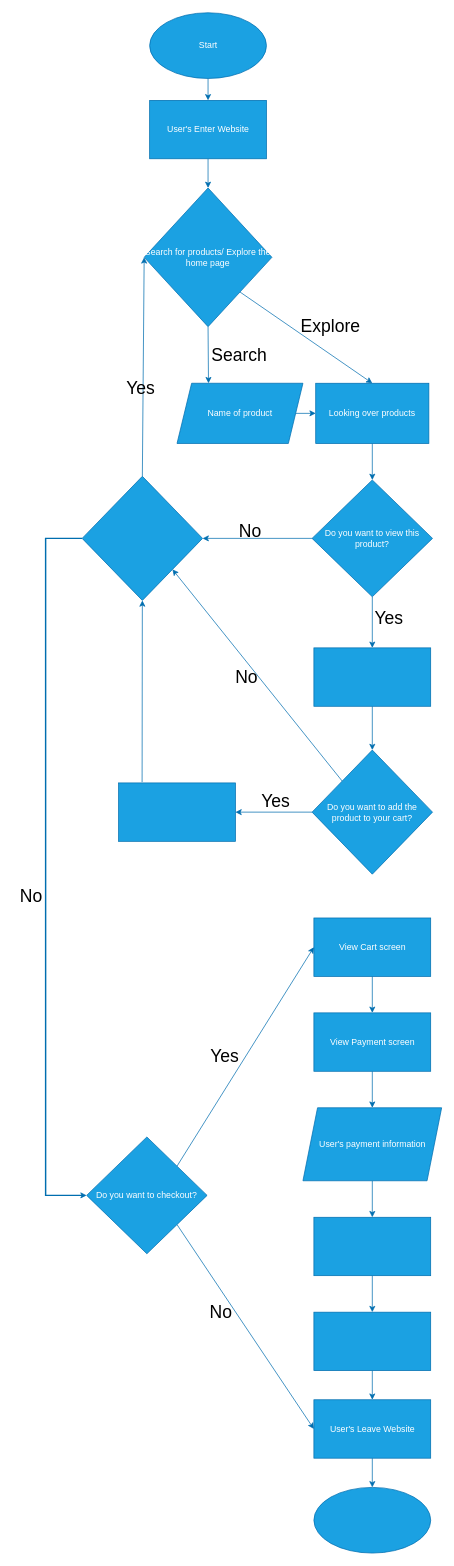
This 454x1566 diagram has some shape labels left out. The shapes that lost their labels are listed below. From the top down, each one's box as (x1, y1, x2, y2) in pixels, then its label:
(81, 476, 203, 600): Continue shopping?
(313, 647, 431, 706): Open product's webpage
(118, 782, 235, 841): Added to cart confirmation
(313, 1217, 431, 1276): Order Confirmation screen
(313, 1311, 431, 1371): Send an order confirmation to user's Email
(313, 1487, 431, 1553): End
